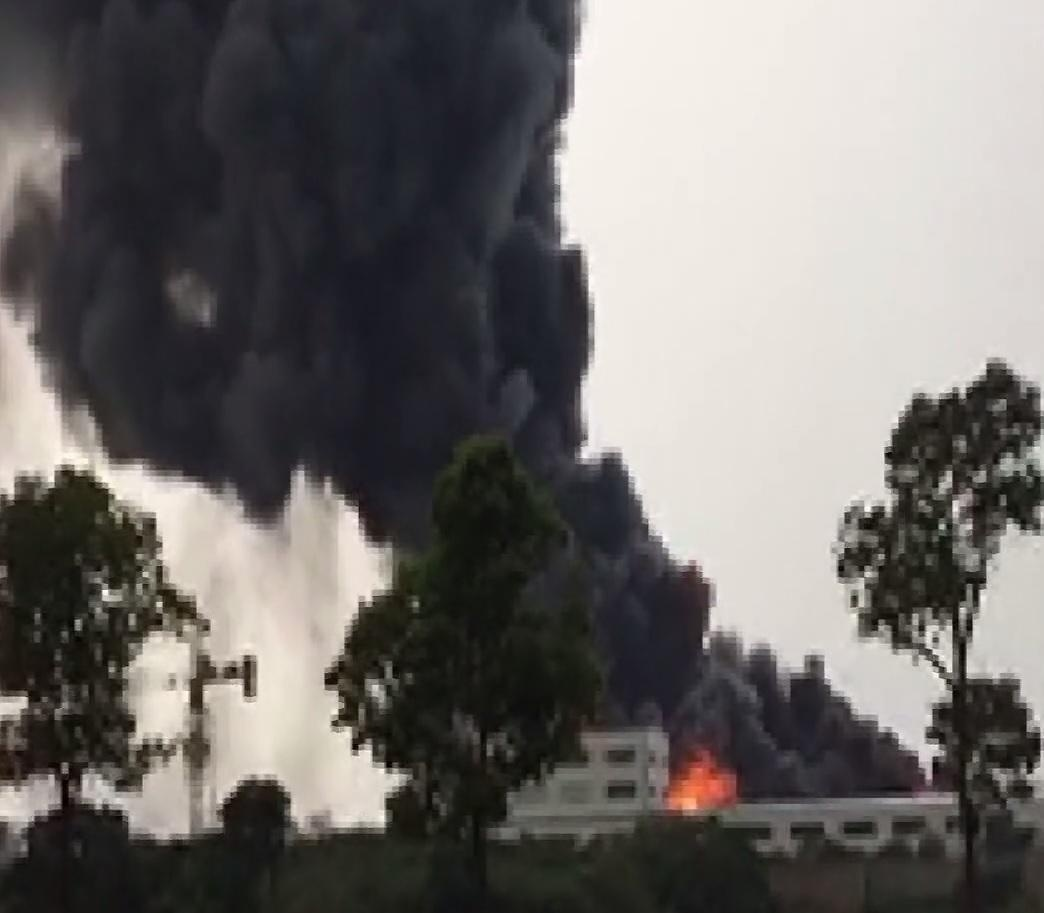fire: (663, 753, 734, 812)
